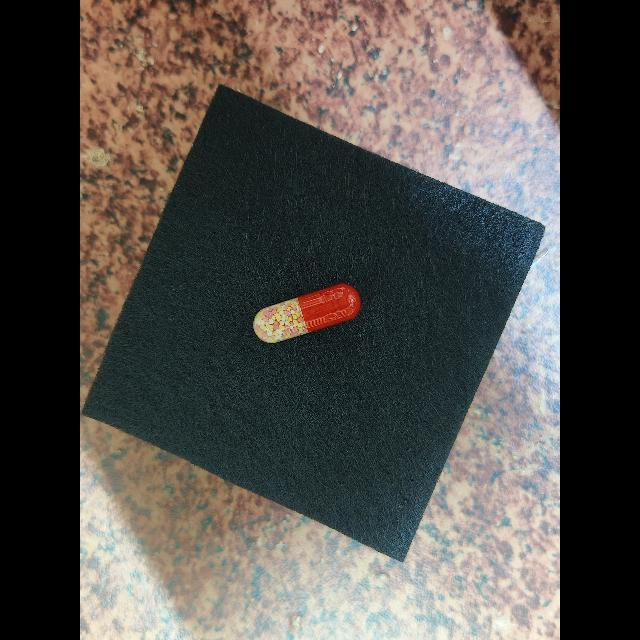Intact Capsule: (253, 283, 361, 343)
